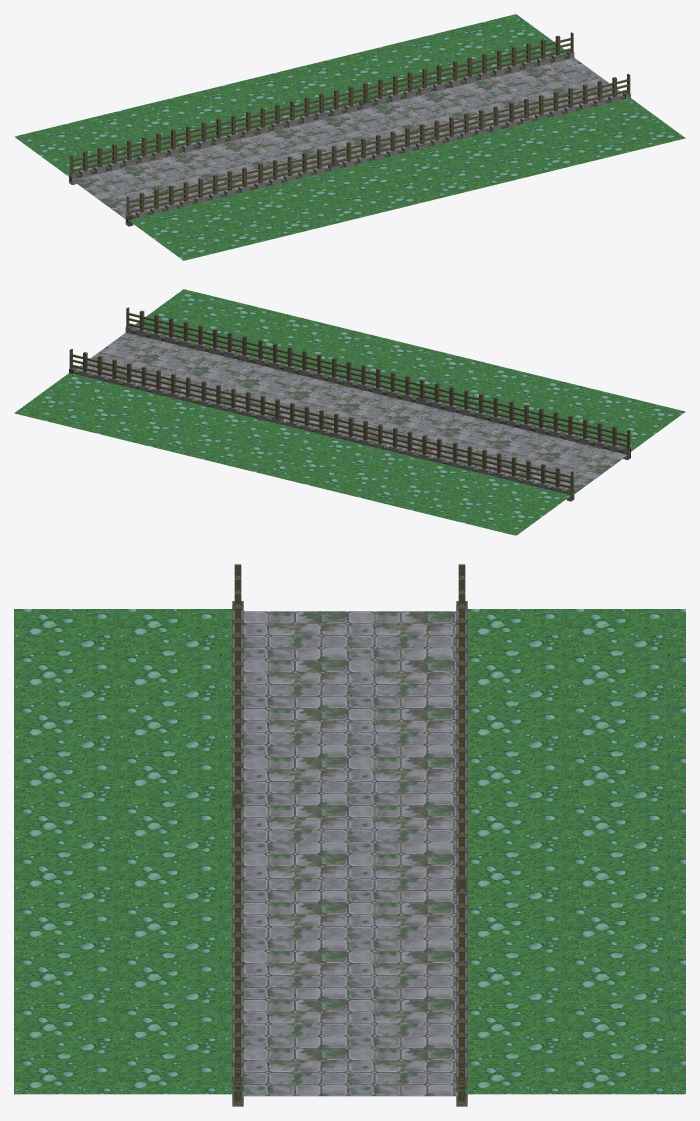
Rendered from newconcept.fbx.
3 renders of one model, top to bottom at view 1: azimuth 30°, elevation 25°; view 2: azimuth 150°, elevation 25°; view 3: azimuth 270°, elevation 25°, orthographic. The views are drawn at different scales.
Parts seen in each view (by area): view 1: Plane.001, Plane, Cube.005, Cube.002, Cube, Cube.001; view 2: Plane.001, Plane, Cube.005, Cube.002, Cube, Cube.001; view 3: Plane.001, Plane, Cube.002, Cube.
Part boxes in pixels (box(x1,y1,x2,y2)): Plane.001: box(14, 14, 685, 260); Plane: box(72, 57, 622, 219); Cube.005: box(70, 38, 628, 213); Cube.002: box(69, 32, 630, 218); Cube: box(69, 50, 630, 226); Cube.001: box(69, 54, 625, 223); Plane.001: box(14, 289, 685, 535); Plane: box(77, 332, 627, 494); Cube.005: box(71, 313, 629, 488); Cube.002: box(69, 307, 630, 493); Cube: box(69, 325, 630, 501); Cube.001: box(74, 329, 630, 498); Plane.001: box(14, 609, 685, 1094); Plane: box(241, 611, 458, 1096); Cube.002: box(234, 564, 465, 1089); Cube: box(232, 601, 467, 1106).
Bounding box in the file's own units: 5125 × 280 × 3000.
1 material, 1 textured.
